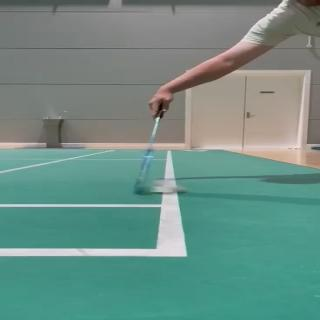Shuttle: (150, 178, 187, 194)
